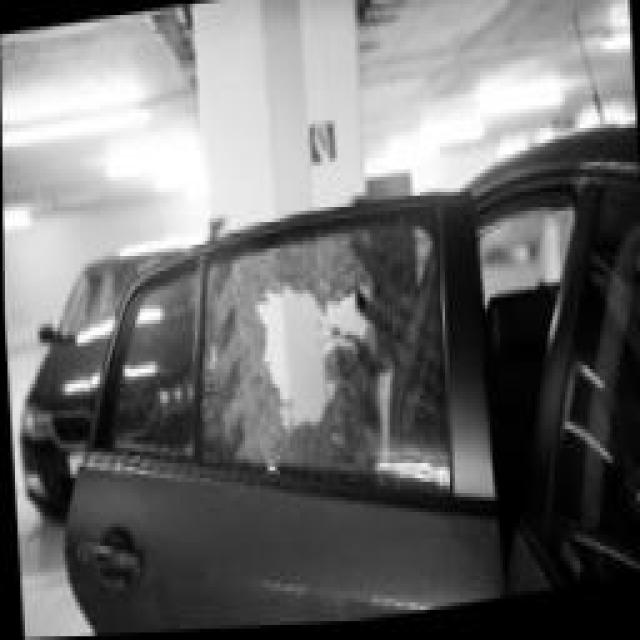Door: (95, 200, 510, 635)
